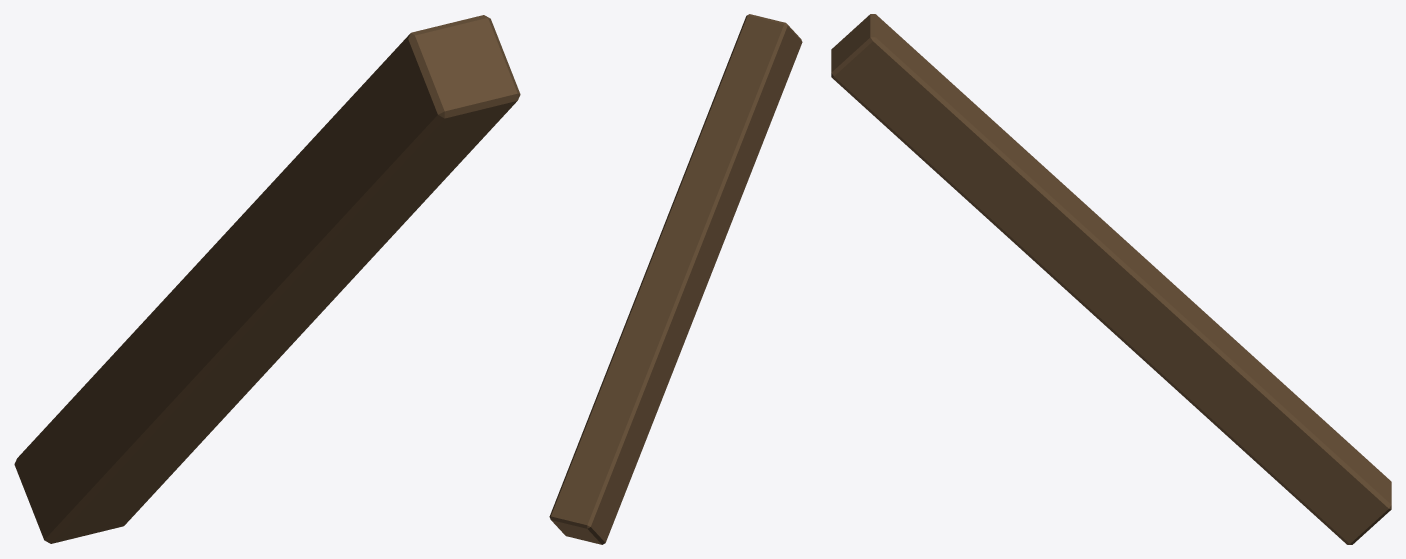
The model's file is SM_WL_DiagonalBrace1m.fbx.
3 renders of one model, left to right at view 1: azimuth 30°, elevation 25°; view 2: azimuth 150°, elevation 25°; view 3: azimuth 270°, elevation 25°, orthographic. The views are drawn at different scales.
Parts seen in each view (by area): view 1: SM_WL_DiagonalBrace1m; view 2: SM_WL_DiagonalBrace1m; view 3: SM_WL_DiagonalBrace1m.
Part boxes in pixels (x1,y1,x2,y2): SM_WL_DiagonalBrace1m: (14, 15, 520, 543); SM_WL_DiagonalBrace1m: (549, 14, 802, 544); SM_WL_DiagonalBrace1m: (831, 14, 1391, 544).
Bounding box in the file's own units: 1.07 × 0.12 × 1.07.
